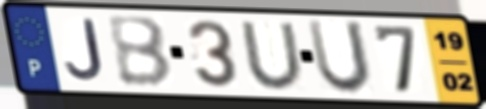3: (185, 18, 239, 90)
7: (372, 22, 421, 96)
B: (104, 15, 176, 90)
J: (62, 17, 108, 83)
U: (304, 17, 375, 98), (237, 20, 309, 92)
